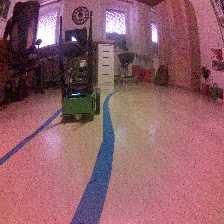rob: (59, 60, 100, 121)
